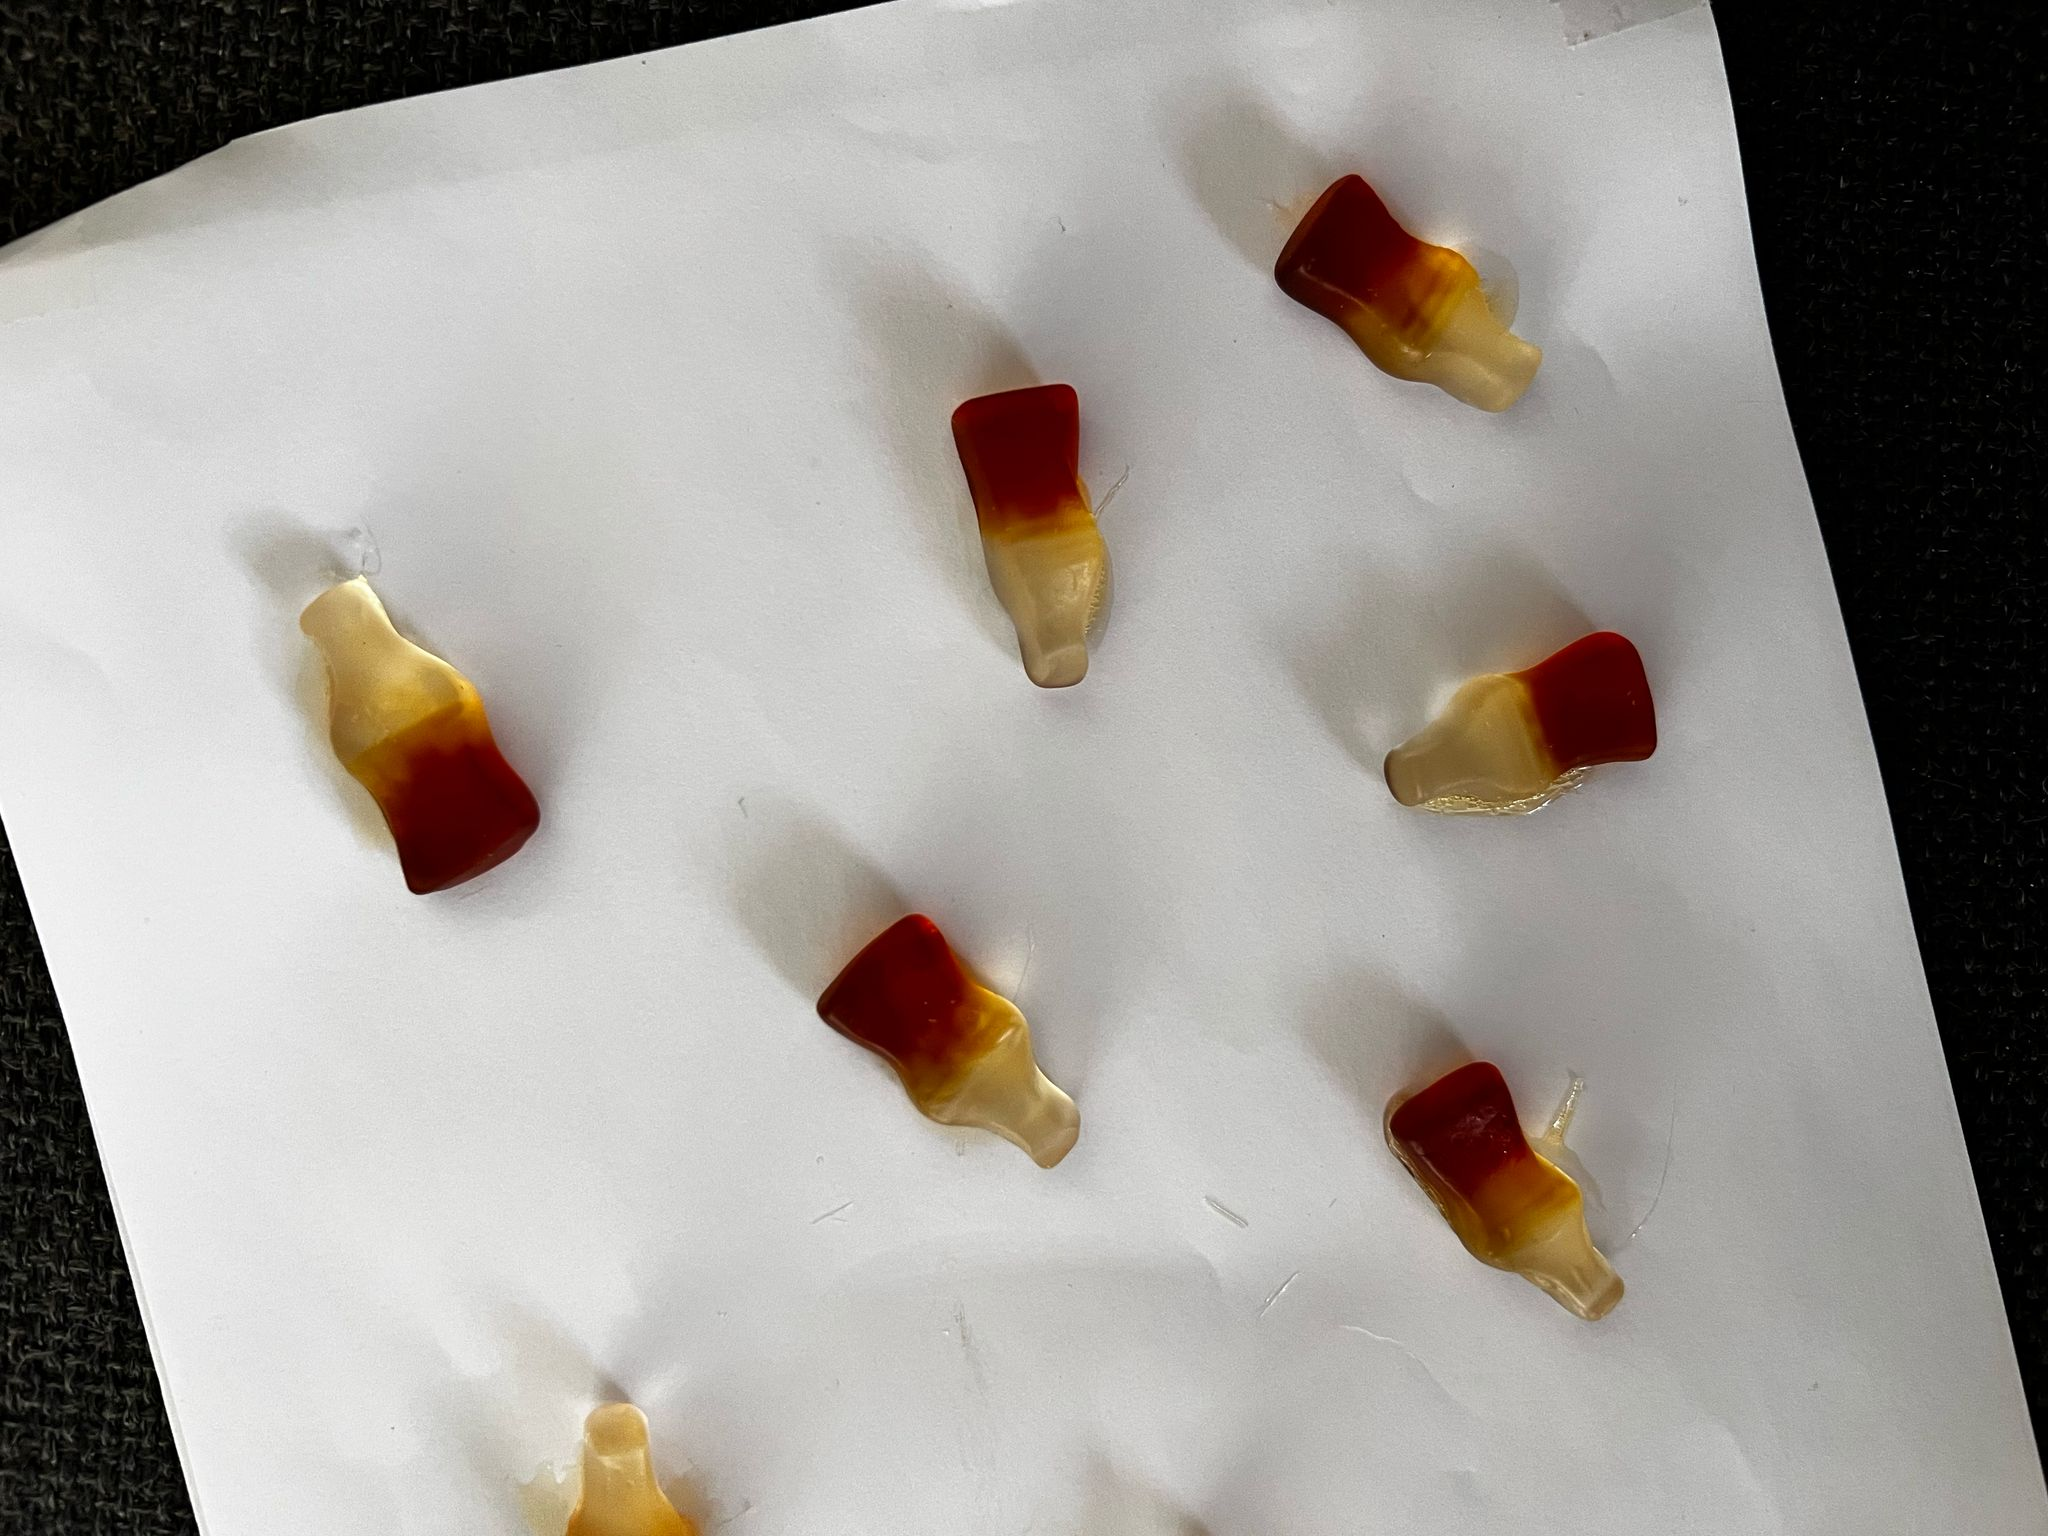cola: (797, 908, 1106, 1179), (297, 573, 547, 900), (1374, 1058, 1650, 1328), (1271, 165, 1546, 411), (1371, 626, 1675, 823), (945, 381, 1122, 692)
